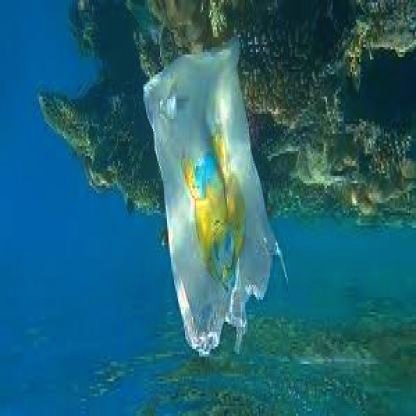pbag: (142, 37, 287, 359)
